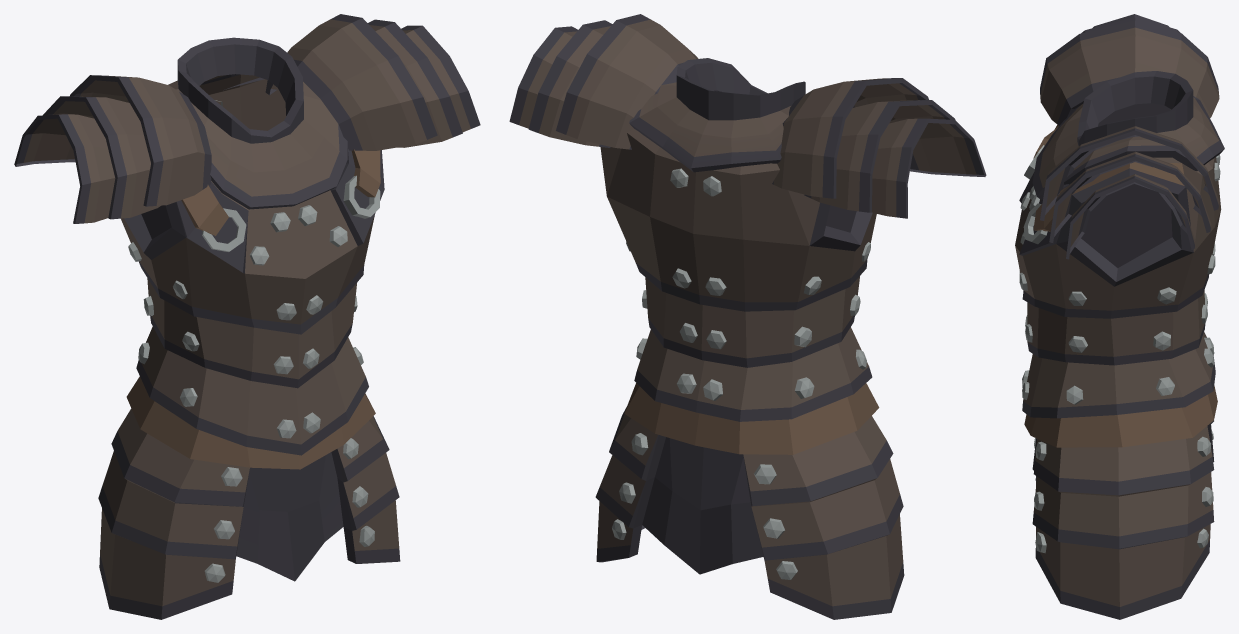
File: armorHardLeatherDisplay.fbx
3 views of the same model, side by side, from view 1: azimuth 30°, elevation 25°; view 2: azimuth 150°, elevation 25°; view 3: azimuth 270°, elevation 25° (orthographic). The views are drawn at different scales.
Parts seen in each view (by area): view 1: armorHardLeatherDisplay; view 2: armorHardLeatherDisplay; view 3: armorHardLeatherDisplay.
Boxes of the visible parts, bbox=[...] form: armorHardLeatherDisplay: bbox=[14, 14, 480, 619]; armorHardLeatherDisplay: bbox=[509, 14, 986, 619]; armorHardLeatherDisplay: bbox=[1015, 14, 1224, 619].
Size of the model in its own units: 1.44 by 1.77 by 0.6977.
